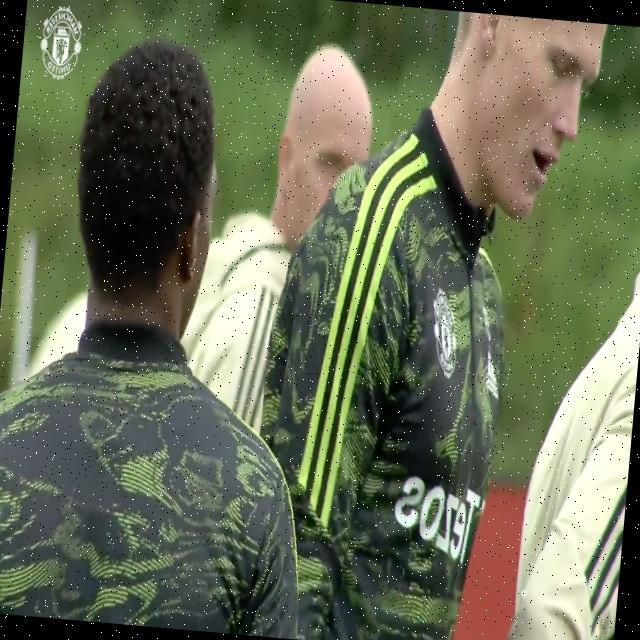Adidas: (483, 350, 502, 399)
